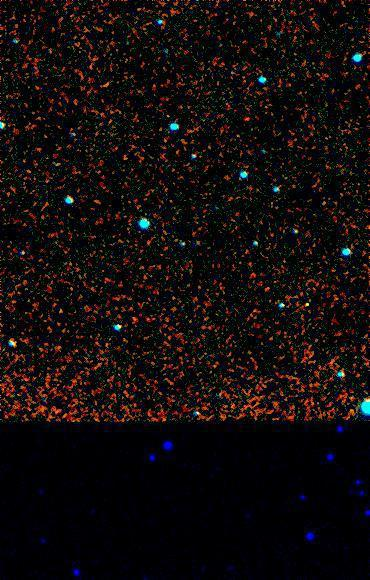star: (232, 102, 262, 132)
